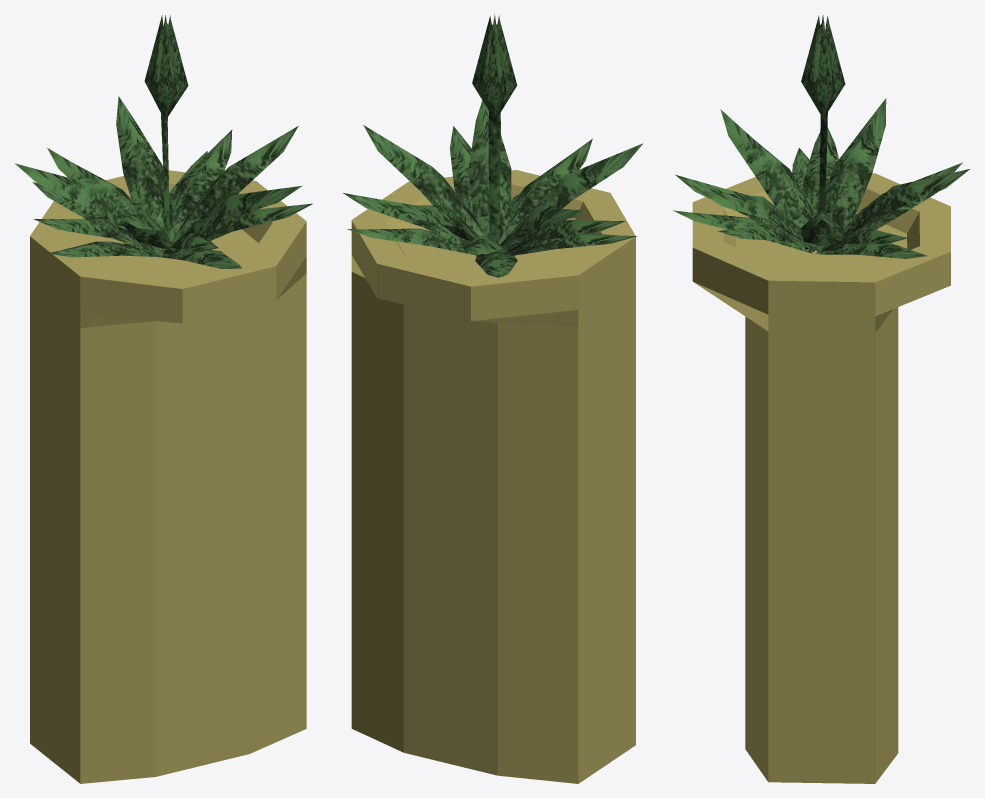
Rendered from pm-tower-pot.glb.
3 views of the same model, side by side, from view 1: azimuth 30°, elevation 25°; view 2: azimuth 150°, elevation 25°; view 3: azimuth 270°, elevation 25° (orthographic).
Parts seen in each view (by area): view 1: Tower_Pot_Art; view 2: Tower_Pot_Art; view 3: Tower_Pot_Art.
Part boxes in pixels (left/top/right/bottom): Tower_Pot_Art: left=15, top=15, right=312, bottom=783; Tower_Pot_Art: left=343, top=14, right=642, bottom=783; Tower_Pot_Art: left=672, top=15, right=969, bottom=783.
Bounding box in the file's own units: 0.6043 × 1.57 × 0.5979.
2 materials, 1 textured.
